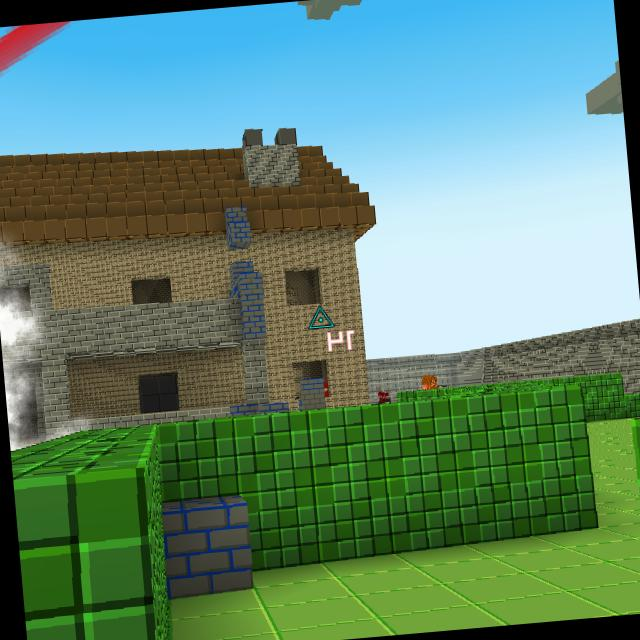enemy: (420, 372, 443, 390), (374, 386, 392, 404), (322, 379, 330, 397)
